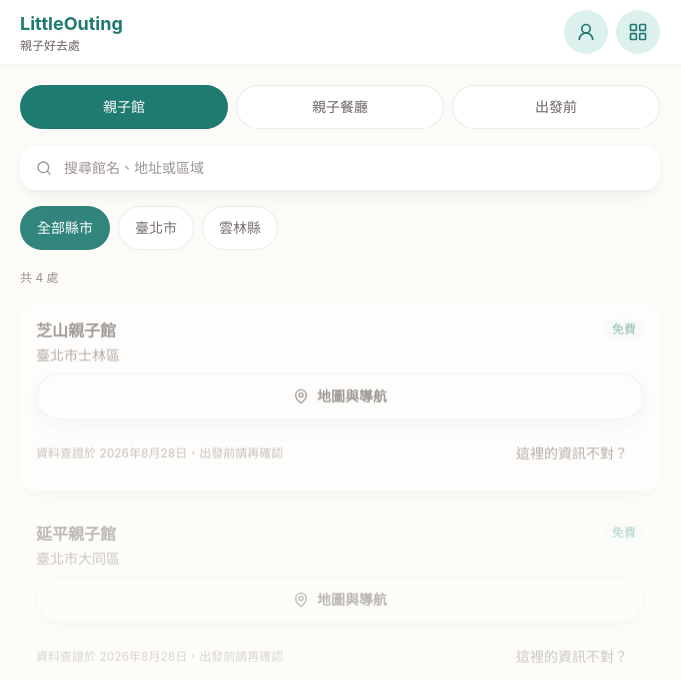
Test: 搜尋 › 用路名搜得到館名不含該路名的場館
Type "克強" into the search field at (340, 168), box [20,146,660,190]
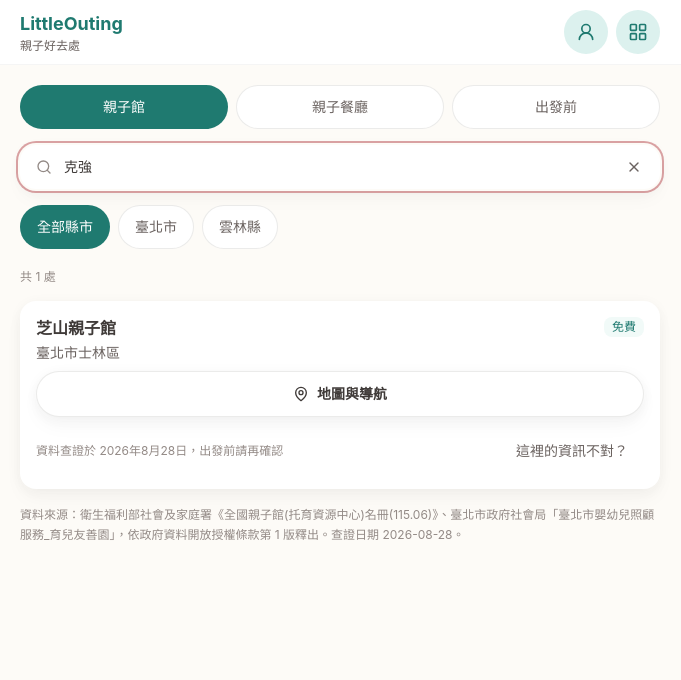
Expected: the heading "芝山親子館" is shown, [36,317,116,339]
Now the number of links "地圖與導航" is 1, box [36,371,644,417]
